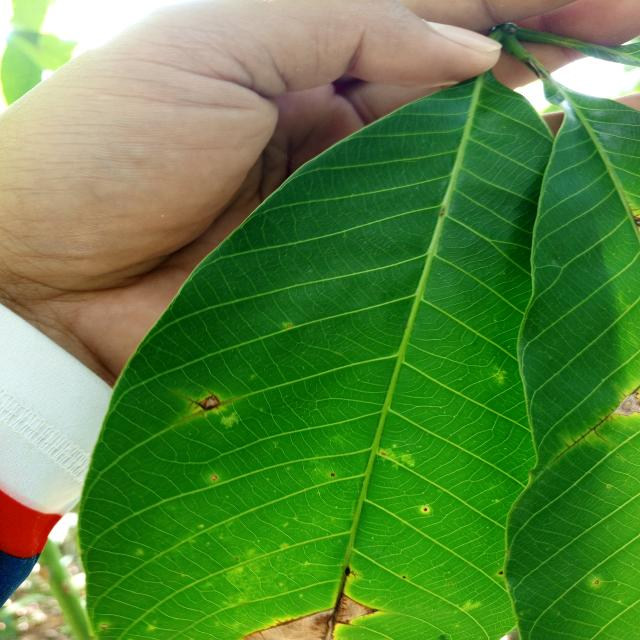Colletotrichum: (211, 476, 218, 481), (286, 324, 291, 328), (594, 581, 599, 584), (330, 474, 334, 476)
Corynespora: (550, 386, 640, 465), (326, 565, 361, 628), (243, 610, 321, 637), (180, 390, 221, 423)
Leaf-Blight: (338, 596, 372, 623), (613, 392, 640, 415)
